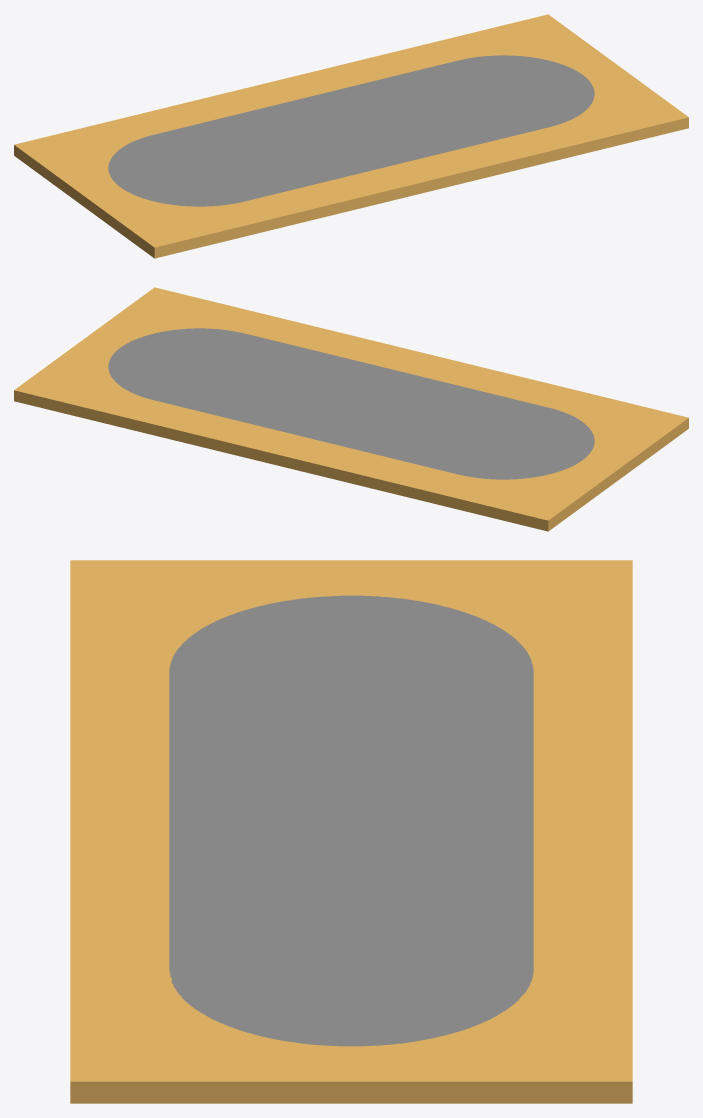
Rendered from OU_AR_Platform_02_D.fbx.
3 views of the same model, one above another, from view 1: azimuth 30°, elevation 25°; view 2: azimuth 150°, elevation 25°; view 3: azimuth 270°, elevation 25° (orthographic). The views are drawn at different scales.
Visible parts, largest first — view 1: OU_AR_Platform_02_D; view 2: OU_AR_Platform_02_D; view 3: OU_AR_Platform_02_D.
Part boxes in pixels (<box>): OU_AR_Platform_02_D: <box>14,14,688,258</box>; OU_AR_Platform_02_D: <box>14,287,688,531</box>; OU_AR_Platform_02_D: <box>70,560,632,1103</box>.
Bounding box in the file's own units: 1535 × 30.1 × 700.
